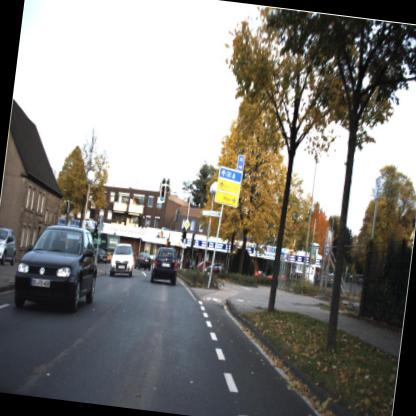other: (182, 217, 192, 229)
